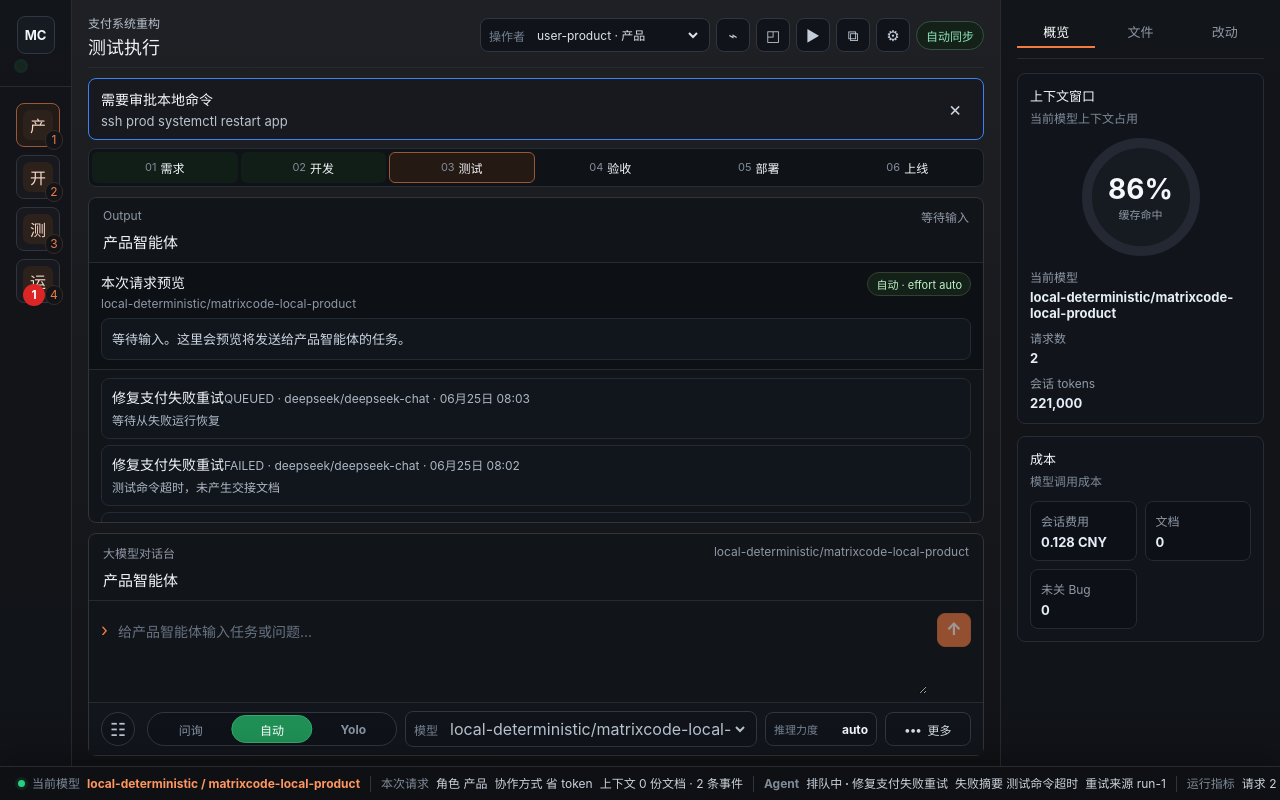
Test case: MatrixCode 桌面工作台 › 运行中心可以从项目队列认领下一条 Agent 运行
Check: the text "支付系统重构" is shown, box left=88, top=16, right=160, bottom=33
Click the button named "运行" at (813, 35), box left=796, top=18, right=830, bottom=52
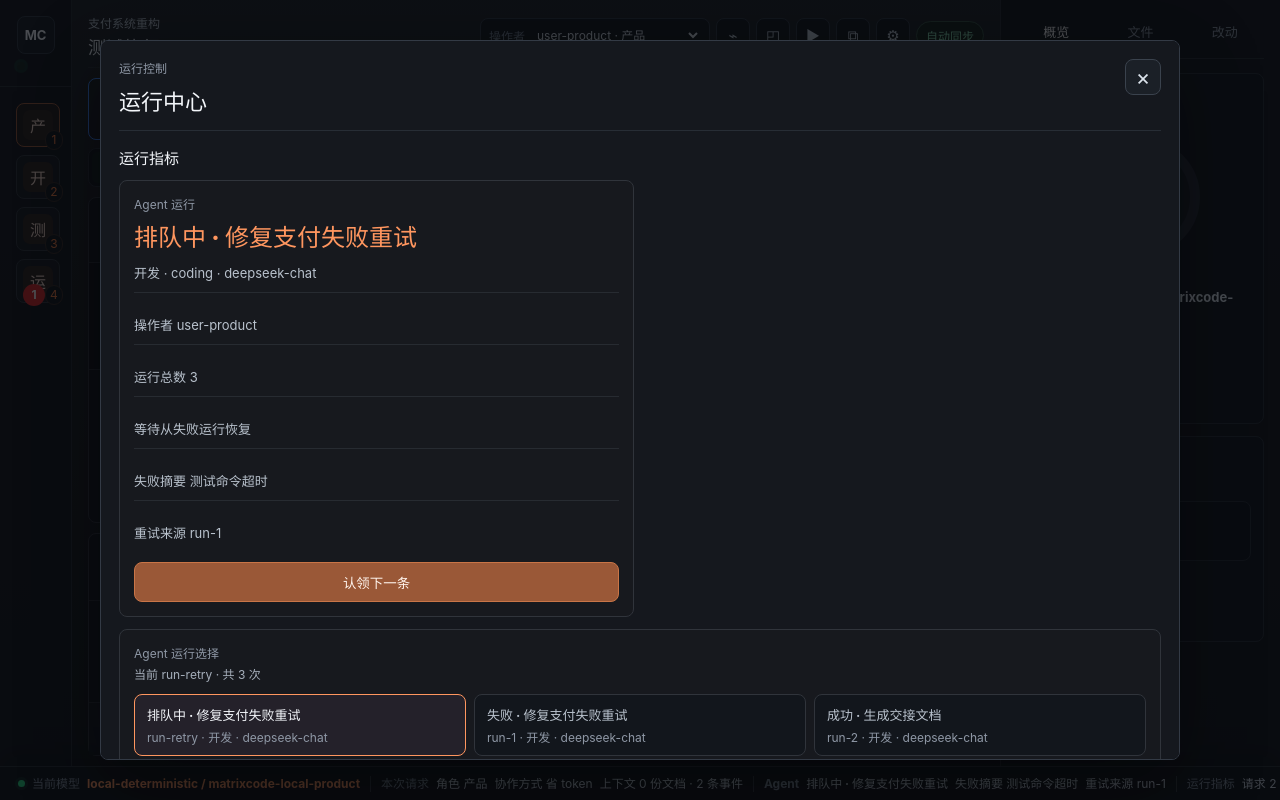
Click the button "认领下一条" at (376, 582), box left=134, top=562, right=619, bottom=602
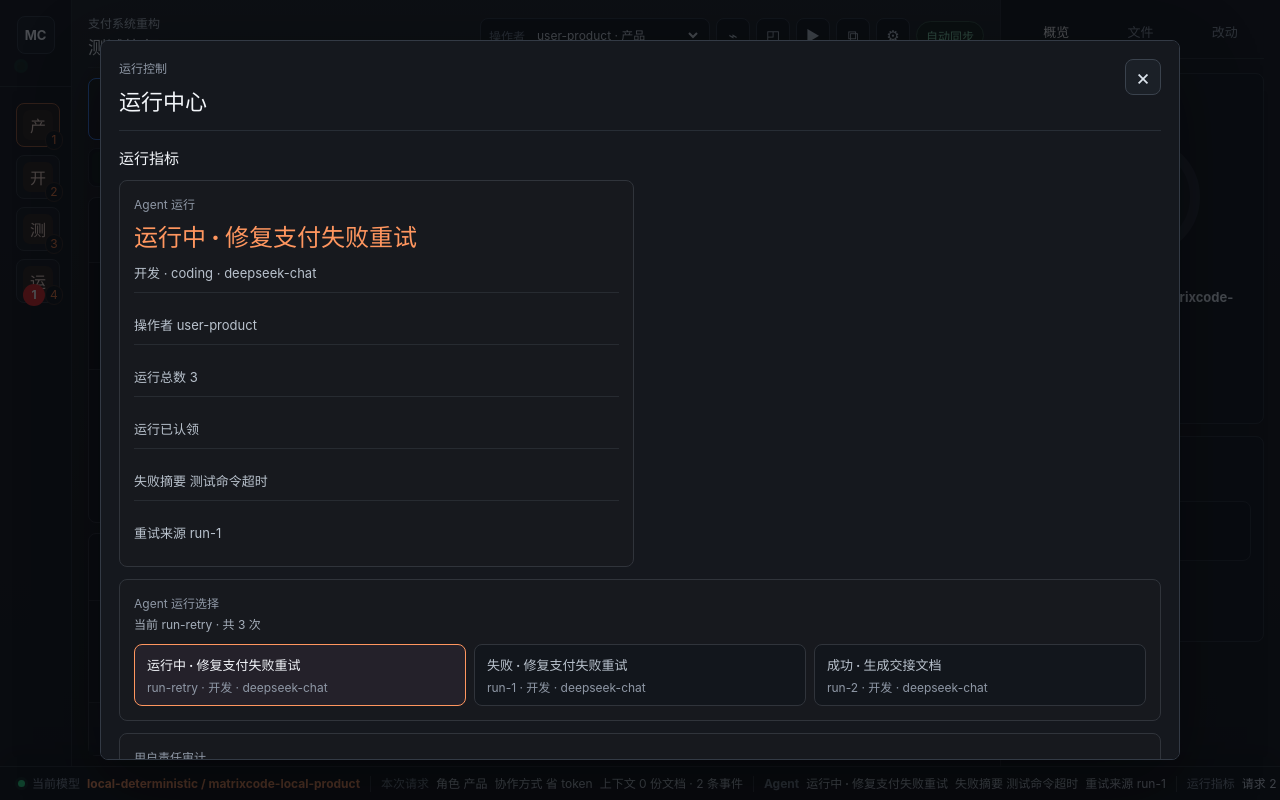
Check: the text "运行中 · 修复支付失败重试" in the row of "0 份文档 · 2 条事件" is shown, box left=806, top=776, right=948, bottom=790
